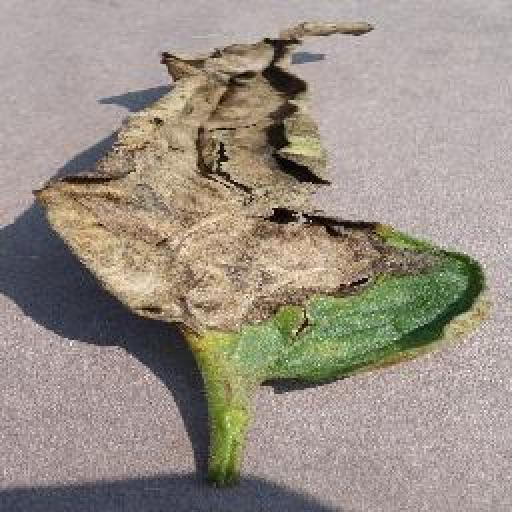Late Blight: (29, 19, 495, 396)
